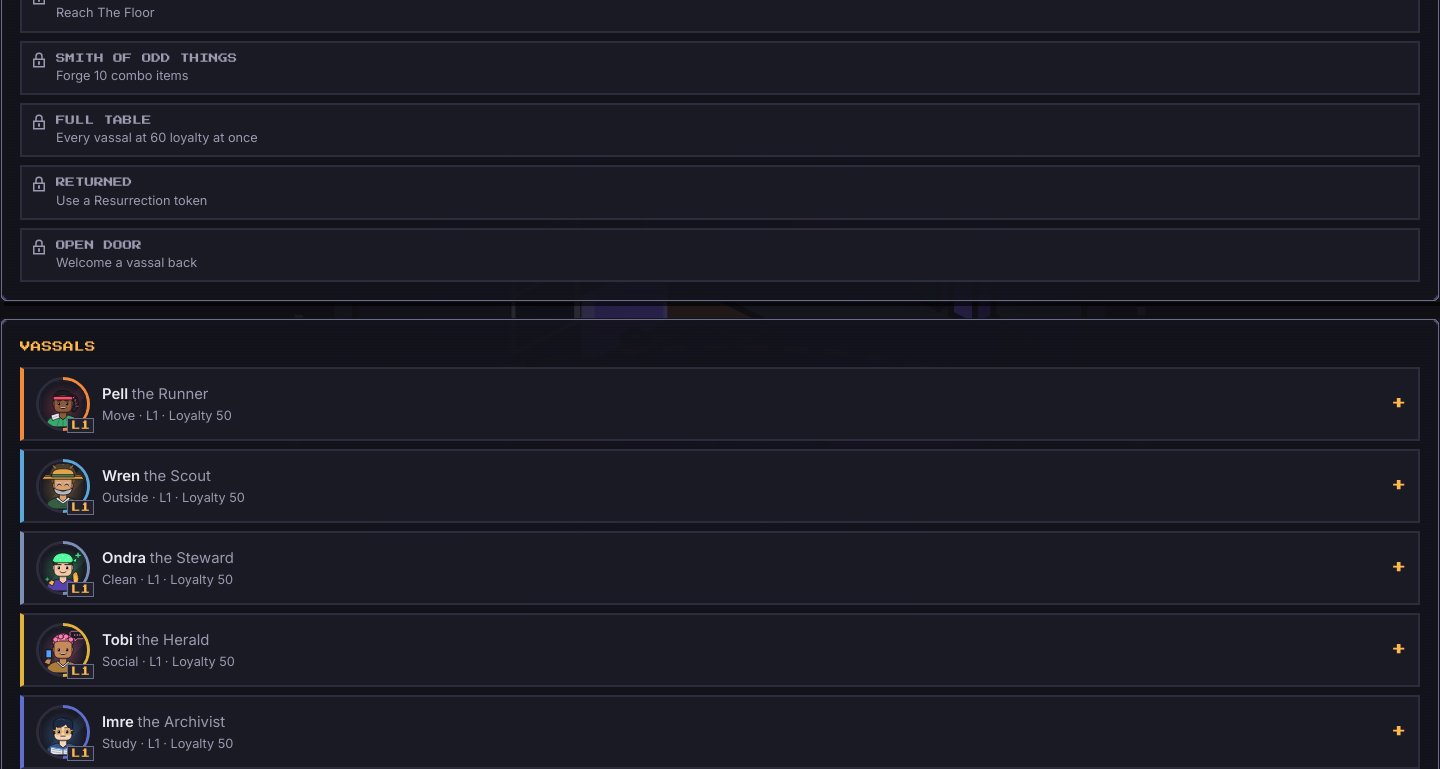
Test: CharacterScreen › expands a vassal to show trust, loyalty and personality
(page scrolled)
Click the button "L1 Pell the Runner Move · L1 · Loyalty 50 +".
click(63, 404)  # box [24, 369, 1418, 439]
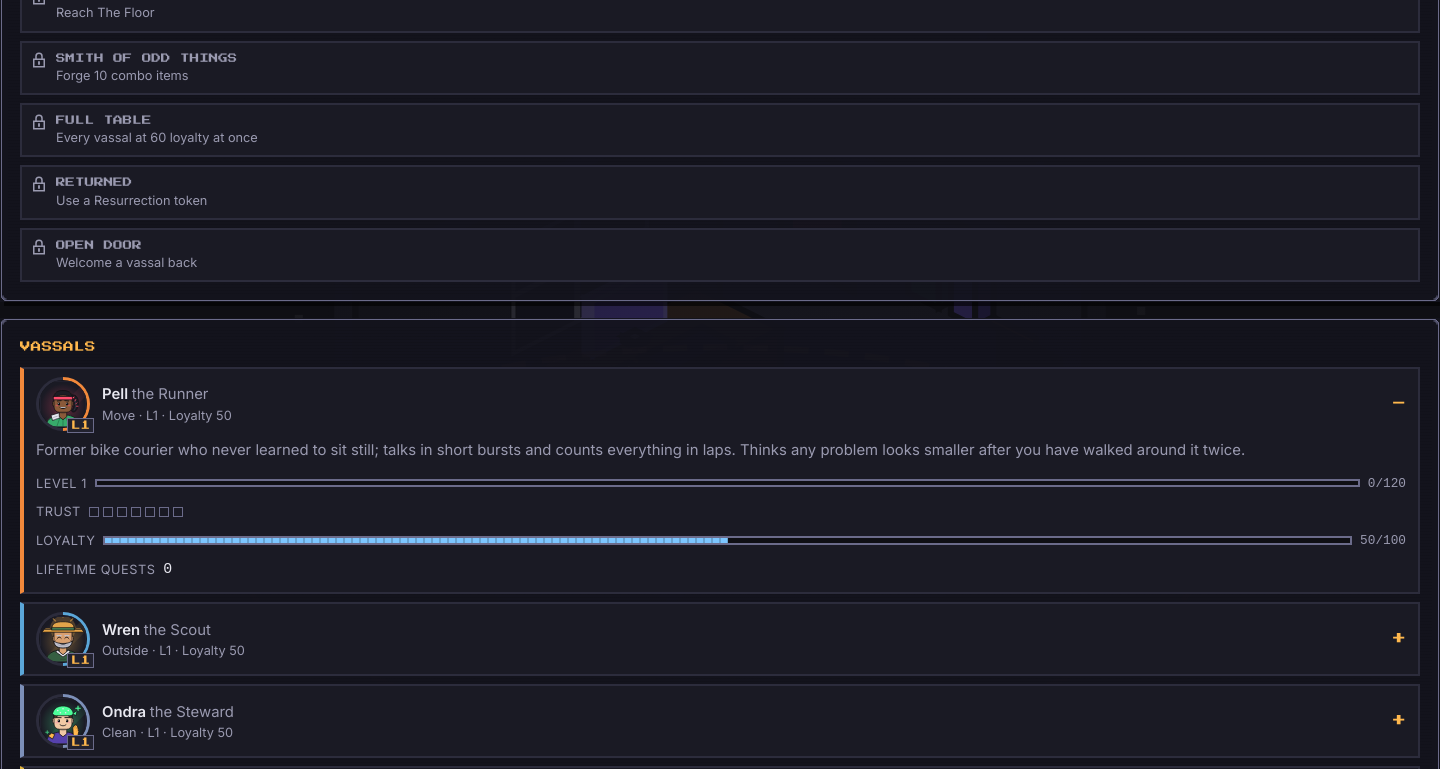
Check: the picture named "trust 0 of 7" is shown, box [89, 507, 183, 517]
Check: the text "bike courier" is shown, box [36, 441, 1245, 459]
